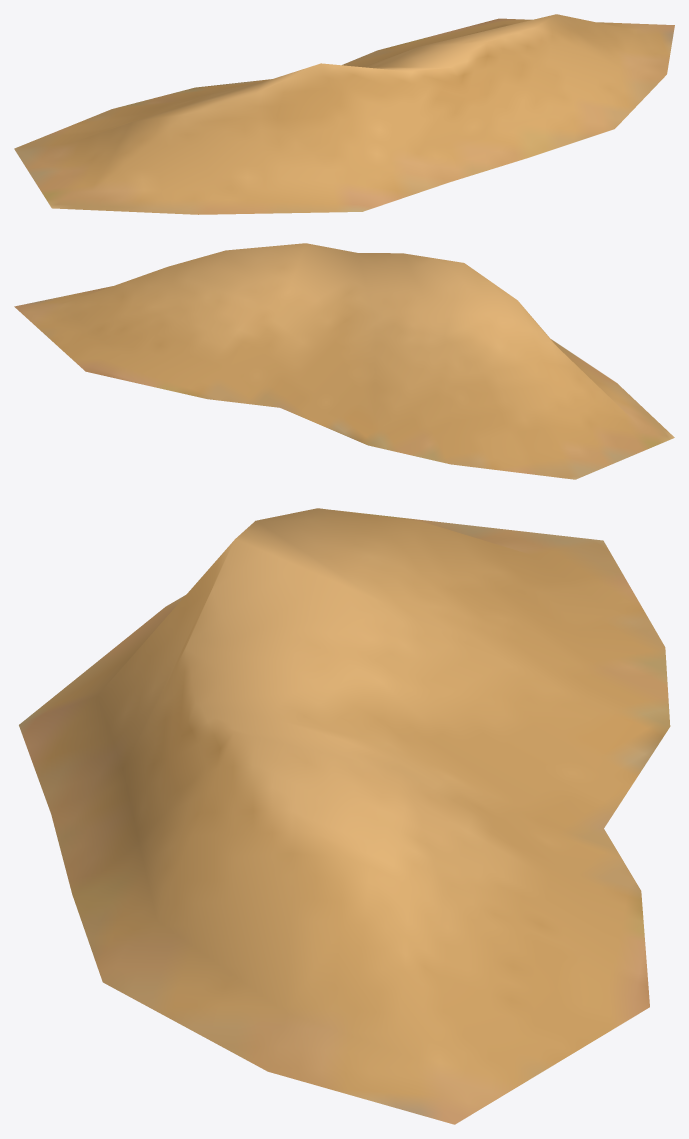
Rendered from h5_shamodui.FBX.
3 views of the same model, one above another, from view 1: azimuth 30°, elevation 25°; view 2: azimuth 150°, elevation 25°; view 3: azimuth 270°, elevation 25° (orthographic). The views are drawn at different scales.
Parts seen in each view (by area): view 1: h5_shamodui; view 2: h5_shamodui; view 3: h5_shamodui.
Boxes of the visible parts, left/top/right/bottom form: h5_shamodui: left=14, top=14, right=674, bottom=214; h5_shamodui: left=14, top=243, right=674, bottom=479; h5_shamodui: left=19, top=508, right=670, bottom=1124.
Size of the model in its own units: 12.66 by 1.92 by 5.67.
